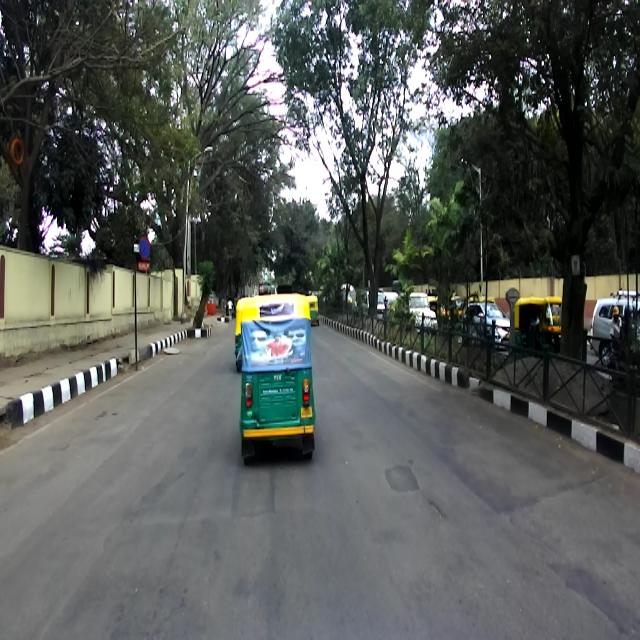autorickshaw: (239, 292, 316, 466), (514, 295, 563, 362)
